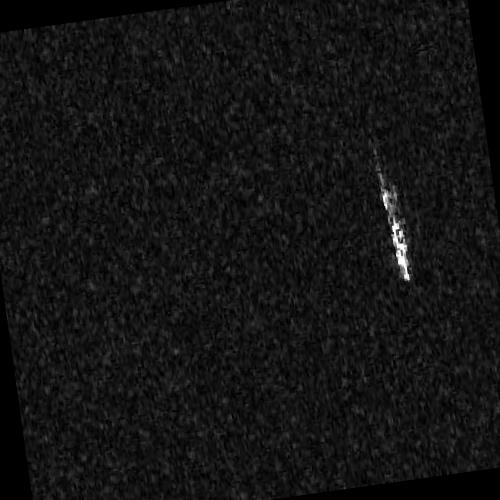ship: (375, 166, 411, 284)
